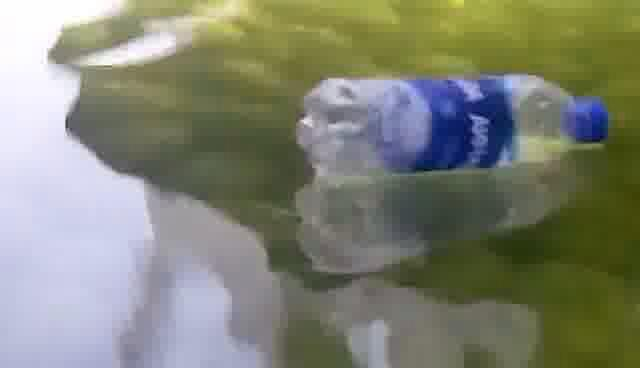Plastic: (293, 65, 615, 179)
